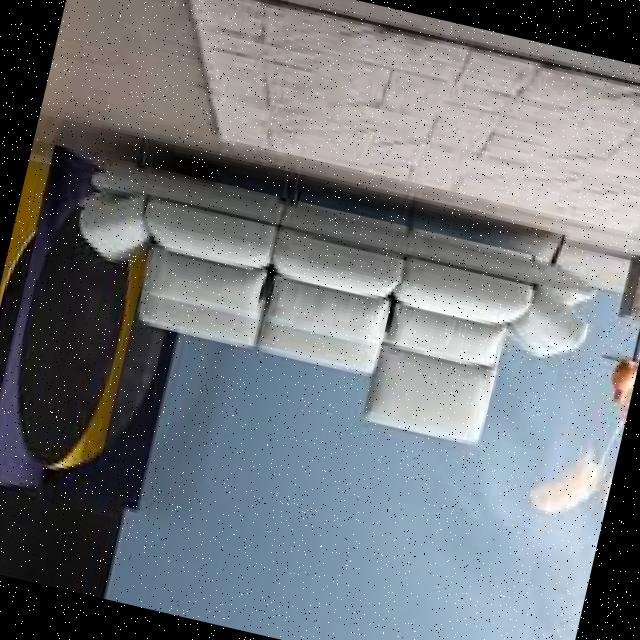Sofa: (34, 105, 616, 472)
